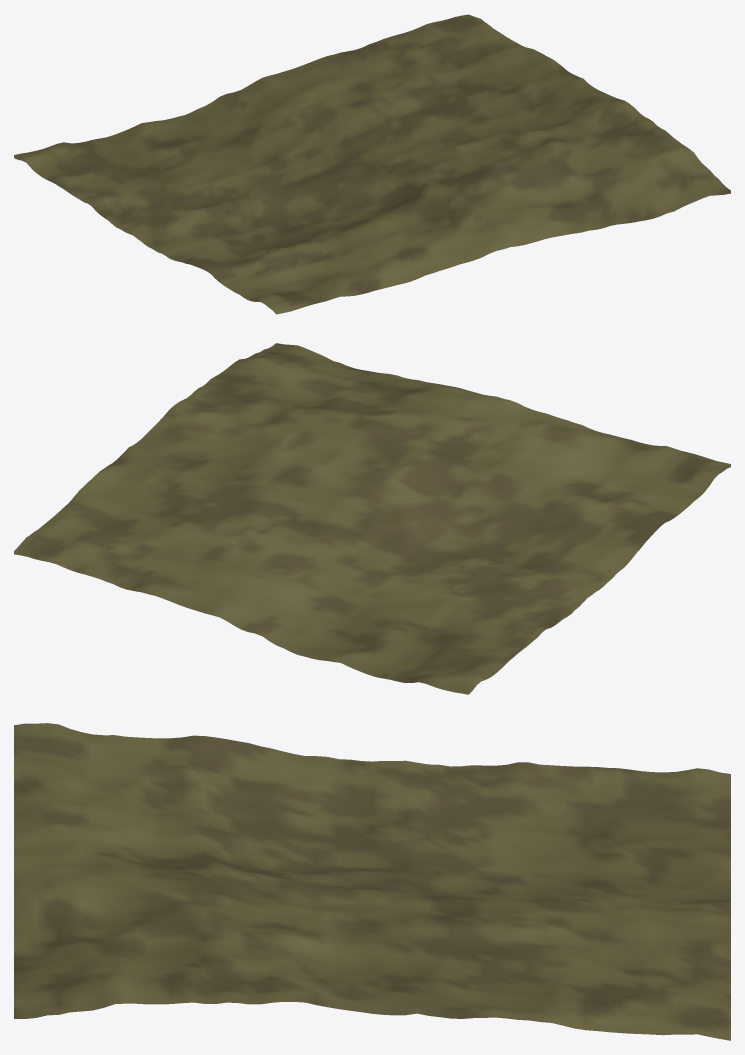
File: land_f_05_08.glb
The picture shows the model from 3 angles, top to bottom: view 1: azimuth 30°, elevation 25°; view 2: azimuth 150°, elevation 25°; view 3: azimuth 270°, elevation 25°; orthographic projection. The views are drawn at different scales.
Parts seen in each view (by area): view 1: land_f_05_08; view 2: land_f_05_08; view 3: land_f_05_08.
Part boxes in pixels (x1,y1,x2,y2): land_f_05_08: (14, 14, 730, 314); land_f_05_08: (14, 343, 730, 694); land_f_05_08: (14, 723, 730, 1040).
Size of the model in its own units: 3840 by 568 by 3840.
